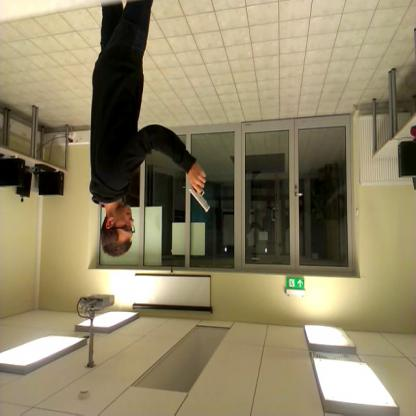Pistol: (183, 154, 216, 216)
